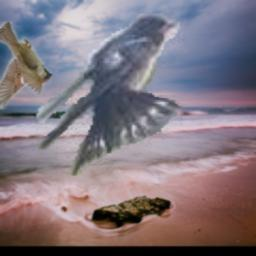Sparrow: (0, 22, 52, 111)
Swallow: (38, 14, 184, 178)
